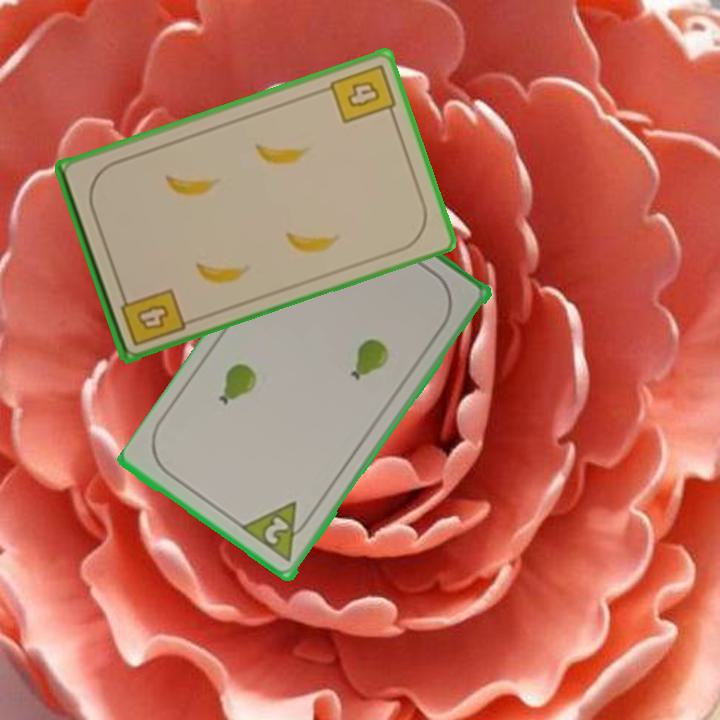2p: (239, 498, 317, 566)
4b: (326, 60, 399, 126), (116, 284, 188, 348)
